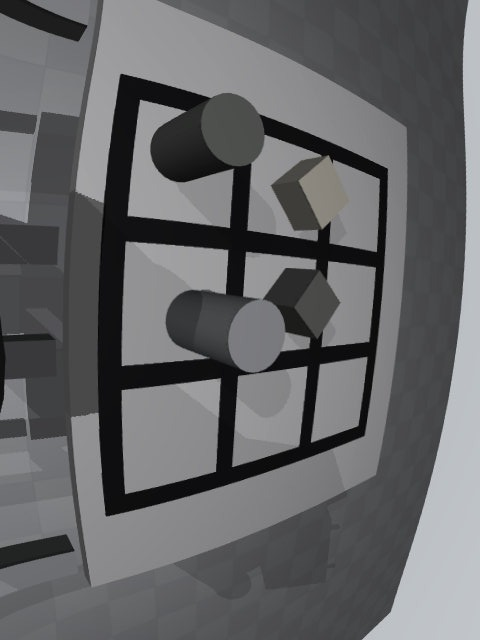can: (166, 290, 285, 373)
cube: (263, 268, 340, 339)
cylinder: (150, 93, 265, 182)
foam: (271, 155, 349, 231)
